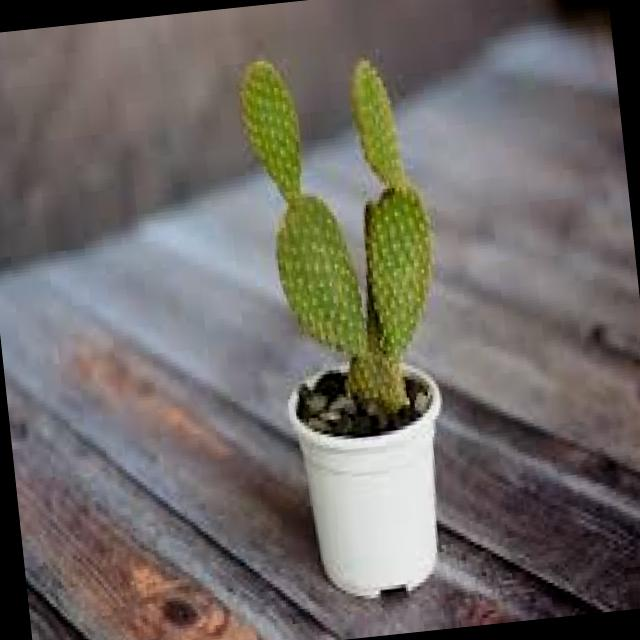cactus: (200, 11, 477, 378)
